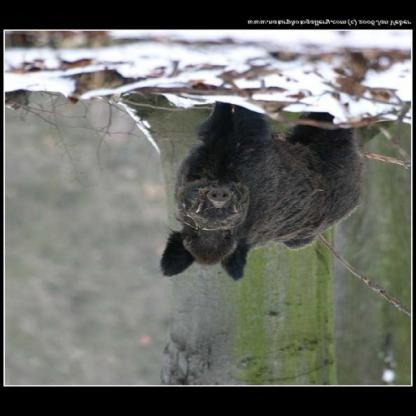boar: (153, 95, 370, 317)
